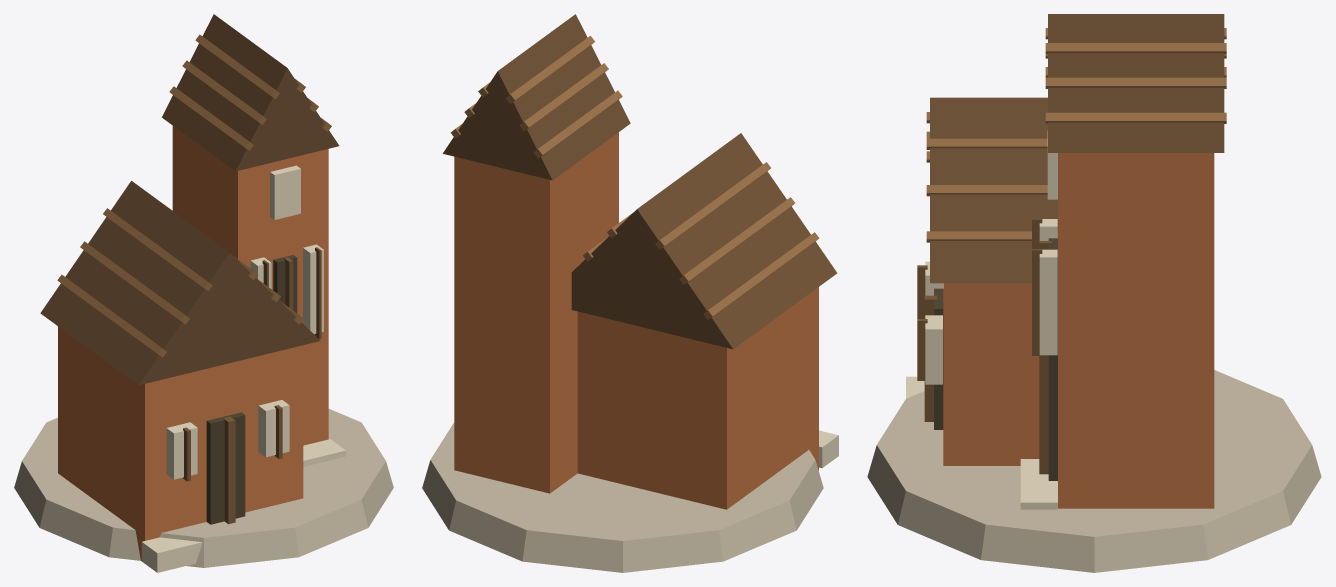
File: building-city.glb
3 renders of one model, left to right at view 1: azimuth 30°, elevation 25°; view 2: azimuth 150°, elevation 25°; view 3: azimuth 270°, elevation 25°, orthographic. The views are drawn at different scales.
Parts seen in each view (by area): view 1: building-city.001, building-city.005, building-city, building-city.004, building-city.006, building-city.002, building-city.003; view 2: building-city.001, building-city.005, building-city, building-city.006, building-city.004; view 3: building-city.001, building-city, building-city.005, building-city.006, building-city.004, building-city.003, building-city.002.
Boxes of the visible parts, x1=… form: building-city.001: x1=58, y1=126, x2=328, y2=560; building-city.005: x1=40, y1=14, x2=339, y2=385; building-city: x1=14, y1=409, x2=393, y2=567; building-city.004: x1=141, y1=165, x2=345, y2=572; building-city.006: x1=57, y1=34, x2=331, y2=357; building-city.002: x1=206, y1=255, x2=297, y2=524; building-city.003: x1=183, y1=247, x2=321, y2=524; building-city.001: x1=454, y1=132, x2=818, y2=509; building-city.005: x1=443, y1=14, x2=837, y2=349; building-city: x1=422, y1=422, x2=823, y2=572; building-city.006: x1=450, y1=36, x2=819, y2=319; building-city.004: x1=819, y1=430, x2=838, y2=467; building-city.001: x1=943, y1=153, x2=1214, y2=508; building-city: x1=867, y1=370, x2=1321, y2=572; building-city.005: x1=930, y1=14, x2=1224, y2=283; building-city.006: x1=926, y1=28, x2=1226, y2=242; building-city.004: x1=906, y1=130, x2=1057, y2=509; building-city.003: x1=917, y1=218, x2=1051, y2=474; building-city.002: x1=934, y1=238, x2=1057, y2=480.
Bounding box in the file's own units: 0.436 × 0.53 × 0.436.
